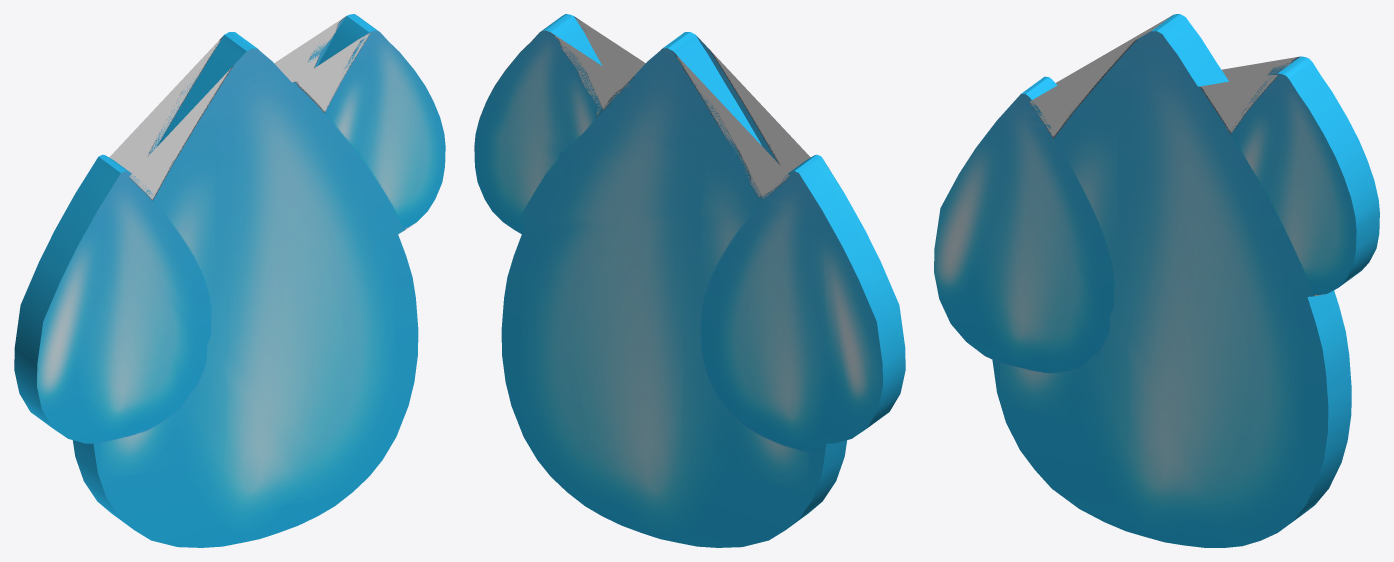
The model's file is Drops 1.fbx.
The picture shows the model from 3 angles, left to right: view 1: azimuth 30°, elevation 25°; view 2: azimuth 150°, elevation 25°; view 3: azimuth 330°, elevation 25°; orthographic projection. The views are drawn at different scales.
Parts seen in each view (by area): view 1: polySurface1; view 2: polySurface1; view 3: polySurface1.
Part boxes in pixels (x1=…): polySurface1: x1=14, y1=14, x2=445, y2=547; polySurface1: x1=474, y1=14, x2=905, y2=547; polySurface1: x1=934, y1=14, x2=1379, y2=547.
Bounding box in the file's own units: 21.34 × 24.57 × 2.05.
1 material, 1 textured.
